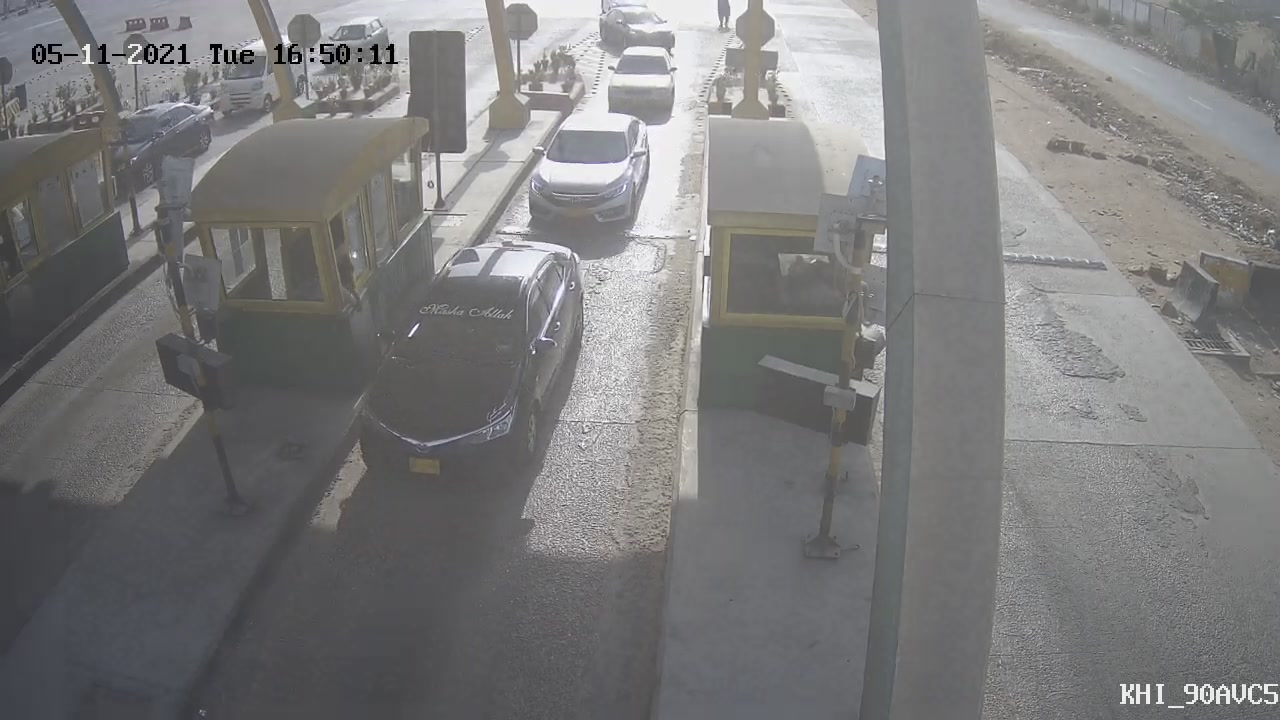F1: (333, 221, 612, 501), (511, 95, 668, 252)
